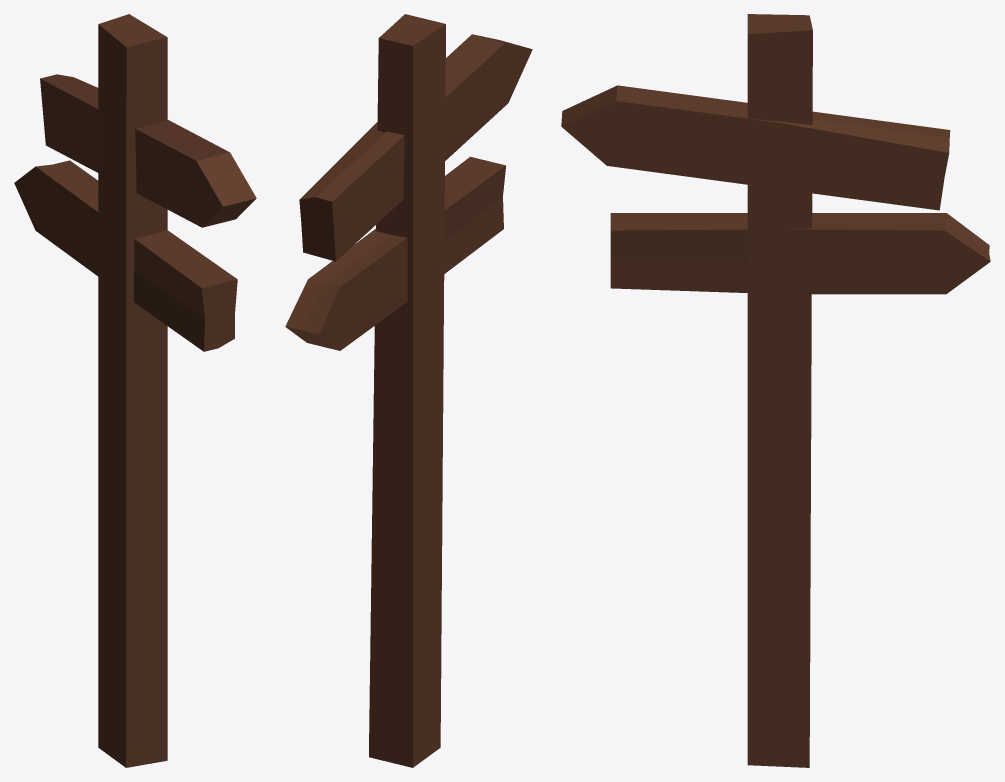
File: Schild.fbx
The picture shows the model from 3 angles, left to right: view 1: azimuth 30°, elevation 25°; view 2: azimuth 150°, elevation 25°; view 3: azimuth 270°, elevation 25°; orthographic projection.
Visible parts, largest first — view 1: Cube; view 2: Cube; view 3: Cube.
Boxes of the visible parts, <box> form: Cube: <box>14,14,256,767</box>; Cube: <box>285,14,532,767</box>; Cube: <box>561,14,990,767</box>.
Size of the model in its own units: 33.45 by 481 by 256.
